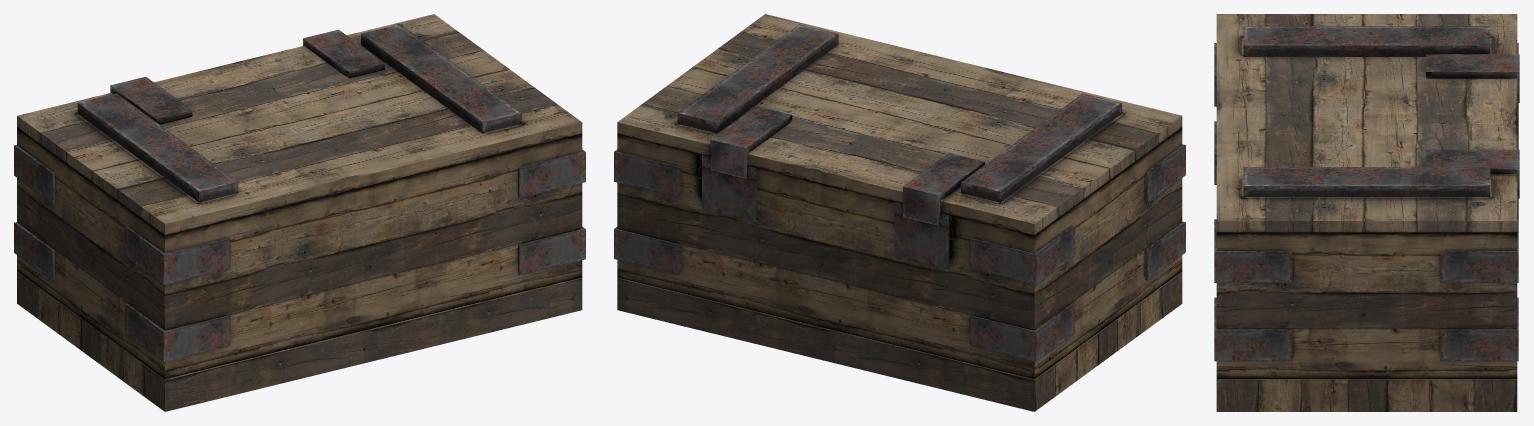
File: items_box_wooden_small_lod01.fbx
The picture shows the model from 3 angles, left to right: view 1: azimuth 30°, elevation 25°; view 2: azimuth 150°, elevation 25°; view 3: azimuth 270°, elevation 25°; orthographic projection.
Parts seen in each view (by area): view 1: items_box_wooden_small_lod01; view 2: items_box_wooden_small_lod01; view 3: items_box_wooden_small_lod01.
Boxes of the visible parts, left/top/right/bottom form: items_box_wooden_small_lod01: left=14, top=14, right=585, bottom=411; items_box_wooden_small_lod01: left=614, top=14, right=1185, bottom=411; items_box_wooden_small_lod01: left=1214, top=14, right=1519, bottom=411.
Size of the model in its own units: 94.6 by 42.58 by 58.32.
